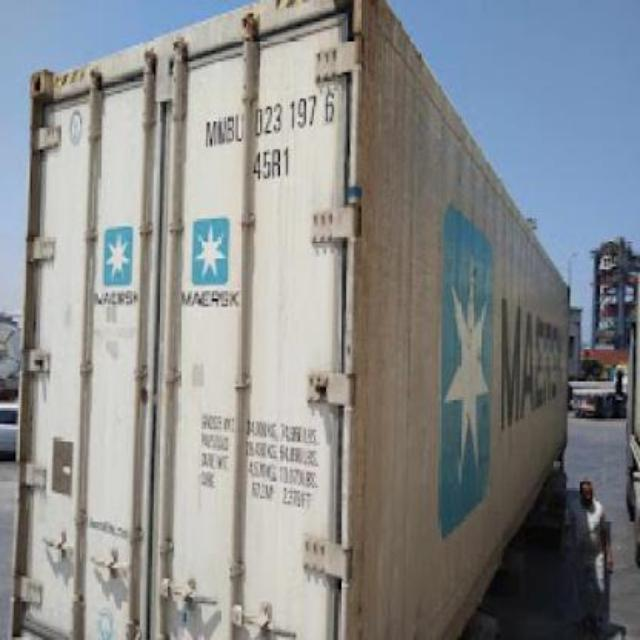0: (252, 98, 262, 138)
1: (286, 96, 296, 130)
2: (262, 102, 272, 134)
3: (272, 98, 282, 134)
6: (322, 88, 336, 122)
7: (304, 91, 318, 131)
9: (296, 93, 306, 131)
B: (226, 112, 234, 146)
M: (202, 112, 215, 150)
N: (214, 112, 224, 150)
U: (234, 112, 244, 144)
